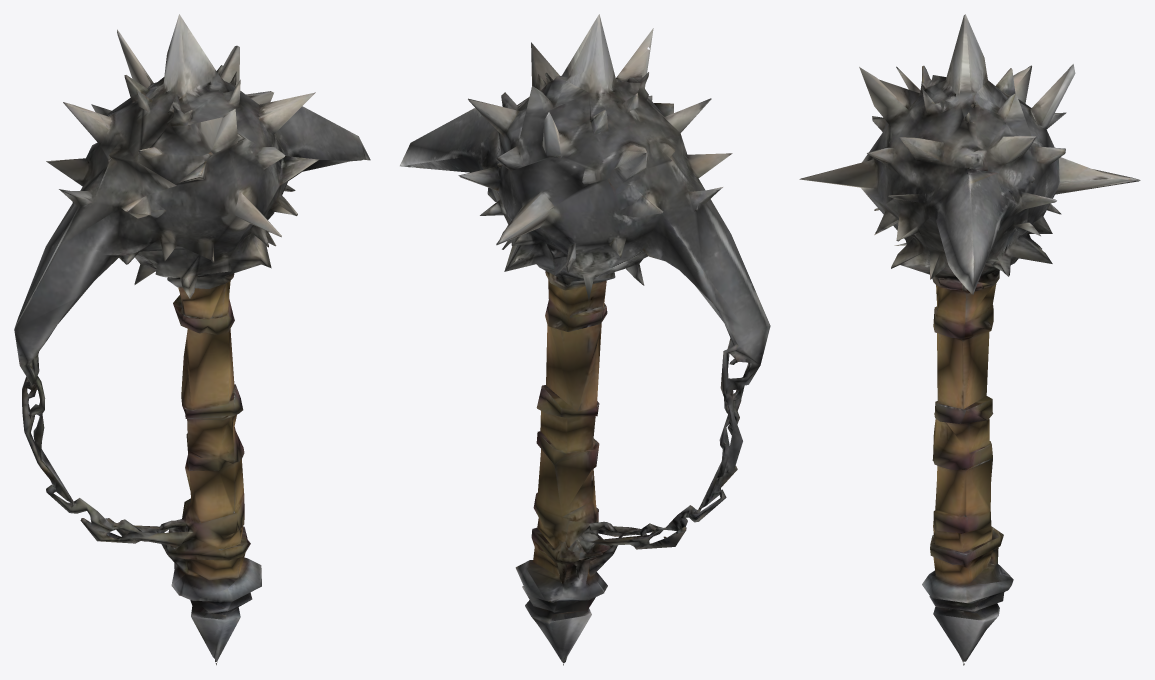
The model's file is 1562_flail.glb.
3 renders of one model, left to right at view 1: azimuth 30°, elevation 25°; view 2: azimuth 150°, elevation 25°; view 3: azimuth 270°, elevation 25°, orthographic. The views are drawn at different scales.
Visible parts, largest first — view 1: Model; view 2: Model; view 3: Model.
Boxes of the visible parts, bbox=[...] form: Model: bbox=[14, 14, 370, 665]; Model: bbox=[400, 14, 770, 665]; Model: bbox=[799, 14, 1140, 665].
Bounding box in the file's own units: 0.5762 × 1 × 0.4874.
Materials: 1 (1 with a texture image).
